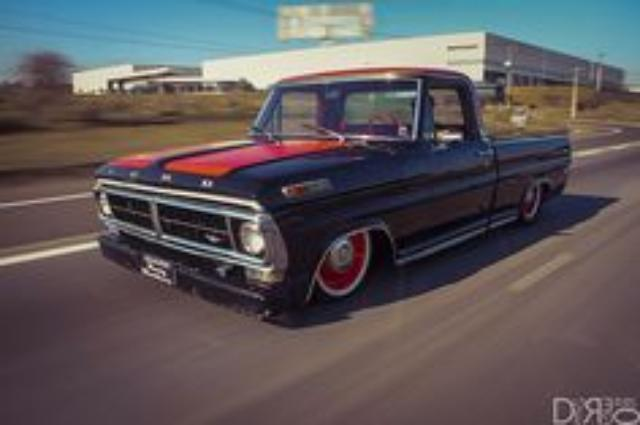pickup-truck: (91, 66, 574, 321)
